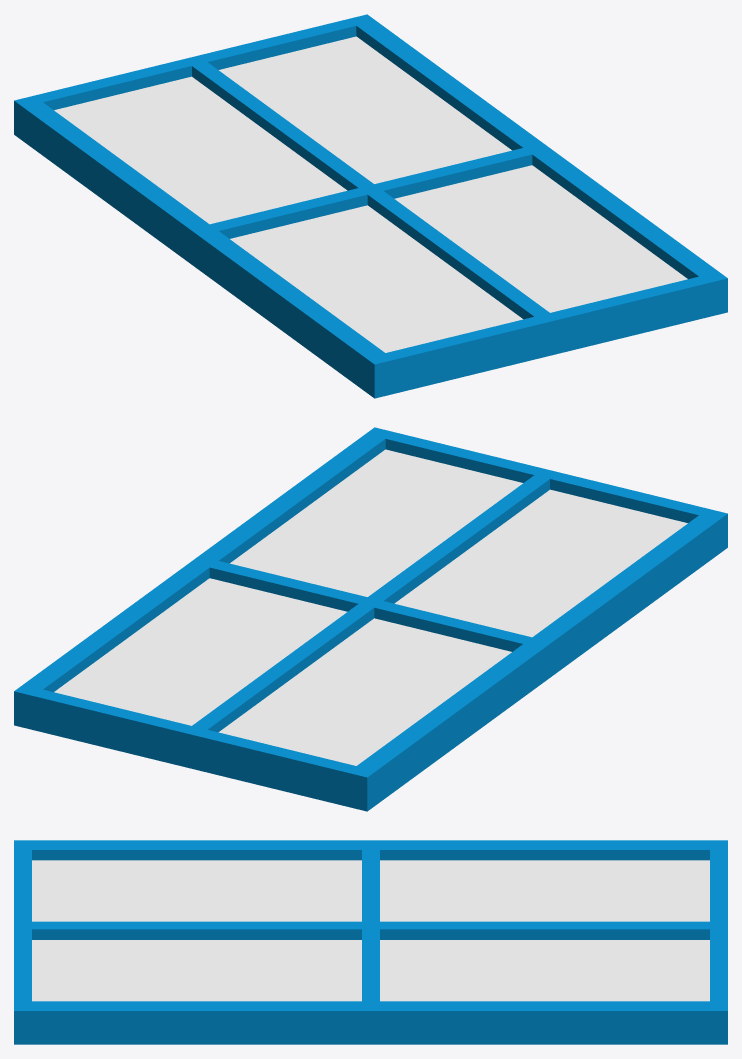
File: scene_6GFw6TQ6YB.glb
The picture shows the model from 3 angles, top to bottom: view 1: azimuth 30°, elevation 25°; view 2: azimuth 150°, elevation 25°; view 3: azimuth 270°, elevation 25°; orthographic projection.
Parts seen in each view (by area): view 1: polySurface35; view 2: polySurface35; view 3: polySurface35.
Boxes of the visible parts, <box> form: polySurface35: <box>14,14,727,398</box>; polySurface35: <box>14,427,727,811</box>; polySurface35: <box>14,840,727,1044</box>.
Bounding box in the file's own units: 87.82 × 8.1 × 155.
